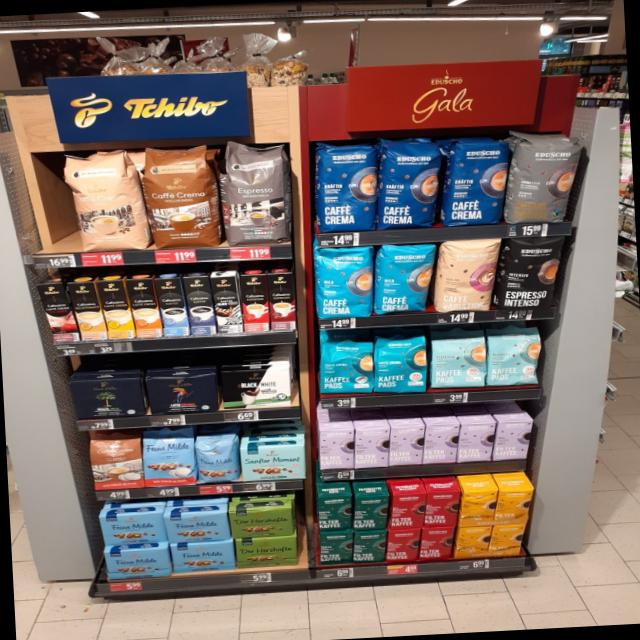BM Gemahlen: (68, 375, 148, 421)
BW Gemahlen: (218, 366, 292, 409)
CC Mild: (63, 147, 148, 256)
CC Vollmundig: (86, 430, 144, 492)
CC Vollmundig 36 Pads: (140, 142, 222, 250)
Espresso Aromatisch: (222, 137, 290, 246)
FM 36 Pads: (142, 428, 196, 486)
FM Bohne: (193, 434, 241, 484)
FM Gemahlen: (98, 510, 168, 546), (101, 546, 172, 580), (170, 540, 236, 574), (164, 510, 230, 543)
Herzhatfe Mundig: (235, 535, 298, 569), (229, 507, 295, 539)
LG Gemahlen: (145, 372, 221, 417)
SM Gemahlen: (239, 442, 306, 482)
Simo CC Colombia: (36, 282, 81, 341)
Simo CCMild bigpack: (97, 280, 137, 339)
Simo CCVollmundig bigpack: (125, 278, 164, 337)
Simo Decaff: (67, 281, 108, 341)
Simo Es Brazil: (240, 274, 270, 332)
Simo Es Caramel: (267, 272, 296, 331)
Simo Es Elegant: (211, 276, 244, 334)
Simo Es Kraft: (182, 276, 217, 335)
Simo Es Vanilla: (154, 277, 191, 336)
